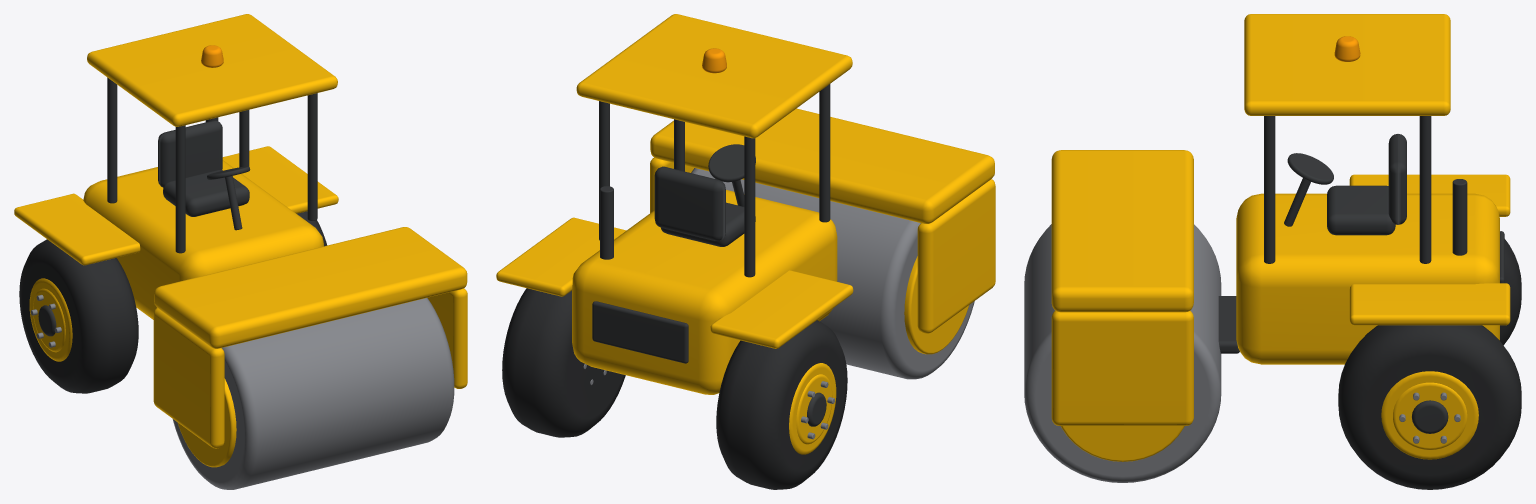
The model's file is RoadRoller.glb.
3 renders of one model, left to right at view 1: azimuth 30°, elevation 25°; view 2: azimuth 150°, elevation 25°; view 3: azimuth 270°, elevation 25°, orthographic. The views are drawn at different scales.
Visible parts, largest first — view 1: RoadRoller_RoadRoller_Root_Yellow, Rol_Drum, Rol_WheelR_Tire, RoadRoller_RoadRoller_Root_DarkGrey, RoadRoller_Wheel_WheelR_Yellow, RoadRoller_Drum_Yellow; view 2: RoadRoller_RoadRoller_Root_Yellow, RoadRoller_RoadRoller_Root_DarkGrey, Rol_Drum, Rol_WheelR_Tire, Rol_WheelL_Tire, RoadRoller_Wheel_WheelR_Yellow, RoadRoller_Drum_Yellow, Rol_Beacon; view 3: RoadRoller_RoadRoller_Root_Yellow, Rol_WheelL_Tire, Rol_Drum, RoadRoller_RoadRoller_Root_DarkGrey, RoadRoller_Wheel_WheelL_Yellow, RoadRoller_Drum_Yellow, Rol_WheelR_Tire, Rol_WheelL_Hub, Rol_Beacon.
Part boxes in pixels (box(x1,y1,x2,y2)): RoadRoller_RoadRoller_Root_Yellow: box(14, 14, 467, 448); Rol_Drum: box(172, 298, 454, 489); Rol_WheelR_Tire: box(19, 239, 138, 393); RoadRoller_RoadRoller_Root_DarkGrey: box(107, 77, 317, 253); RoadRoller_Wheel_WheelR_Yellow: box(29, 278, 72, 361); RoadRoller_Drum_Yellow: box(177, 378, 236, 467); RoadRoller_RoadRoller_Root_Yellow: box(496, 14, 995, 394); RoadRoller_RoadRoller_Root_DarkGrey: box(592, 84, 830, 363); Rol_Drum: box(691, 168, 974, 379); Rol_WheelR_Tire: box(716, 320, 847, 489); Rol_WheelL_Tire: box(502, 288, 625, 437); RoadRoller_Wheel_WheelR_Yellow: box(789, 363, 836, 454); RoadRoller_Drum_Yellow: box(904, 256, 969, 354); Rol_Beacon: box(702, 48, 726, 73); RoadRoller_RoadRoller_Root_Yellow: box(1051, 14, 1510, 425); Rol_WheelL_Tire: box(1338, 325, 1521, 489); Rol_Drum: box(1024, 224, 1221, 482); RoadRoller_RoadRoller_Root_DarkGrey: box(1218, 116, 1504, 353); RoadRoller_Wheel_WheelL_Yellow: box(1381, 371, 1478, 459); RoadRoller_Drum_Yellow: box(1061, 426, 1184, 461); Rol_WheelR_Tire: box(1500, 239, 1521, 345); Rol_WheelL_Hub: box(1412, 400, 1448, 433); Rol_Beacon: box(1334, 36, 1360, 61).
Size of the model in its own units: 1.52 by 1.87 by 2.17.
Materials: 5 (5 with a texture image).
